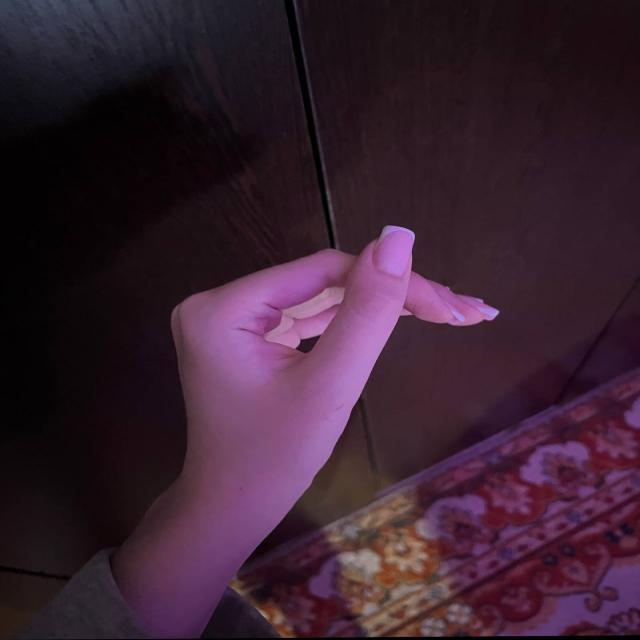f: (148, 211, 502, 481)
